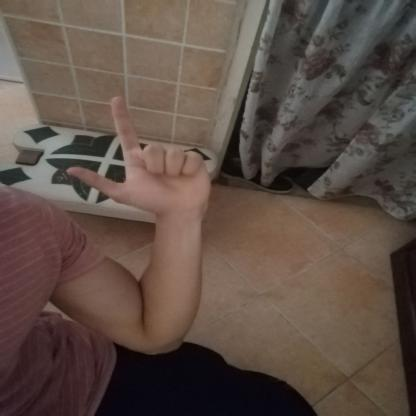LAAM: (55, 88, 219, 221)
